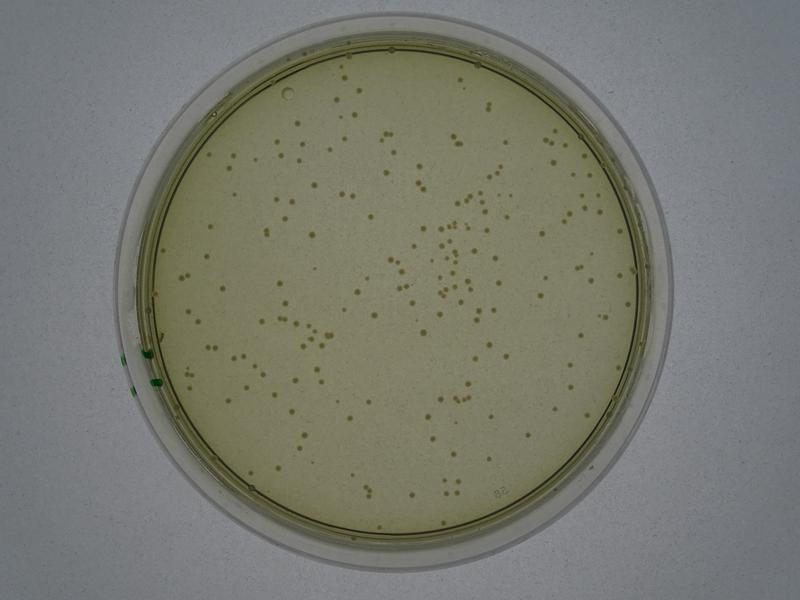colony: (359, 396, 376, 408), (214, 282, 228, 295), (291, 118, 306, 130), (222, 393, 232, 410), (309, 177, 319, 193), (306, 229, 319, 241), (419, 327, 430, 340), (299, 429, 311, 440), (575, 329, 585, 342), (275, 278, 286, 289), (369, 310, 380, 321), (380, 168, 393, 177), (535, 290, 546, 300), (493, 278, 504, 288), (470, 354, 480, 365), (257, 316, 267, 327), (355, 85, 365, 96), (449, 449, 458, 461), (485, 411, 495, 421), (422, 413, 435, 420), (366, 212, 375, 222), (428, 434, 437, 444), (566, 382, 574, 393), (352, 289, 362, 297), (524, 431, 532, 441), (330, 96, 340, 104), (224, 165, 234, 172)
